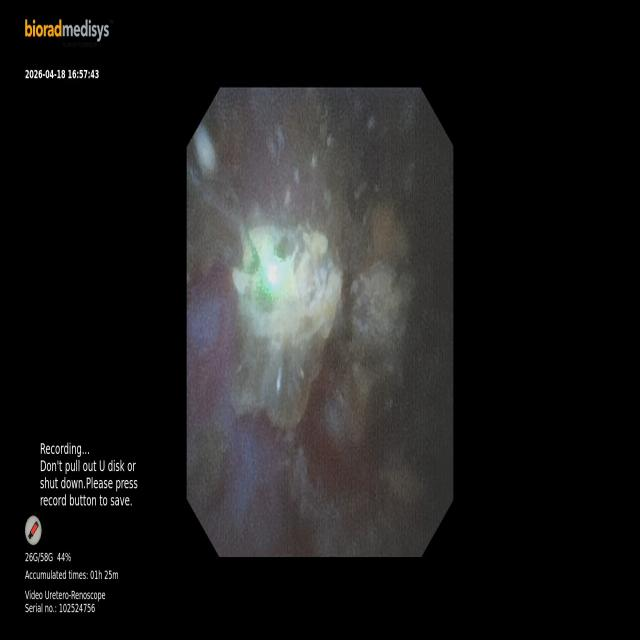laser-fibre: (186, 144, 257, 275)
laser_dot: (267, 263, 278, 284)
stone-new: (232, 225, 342, 431), (322, 261, 412, 445), (187, 418, 228, 514), (368, 204, 408, 262)
